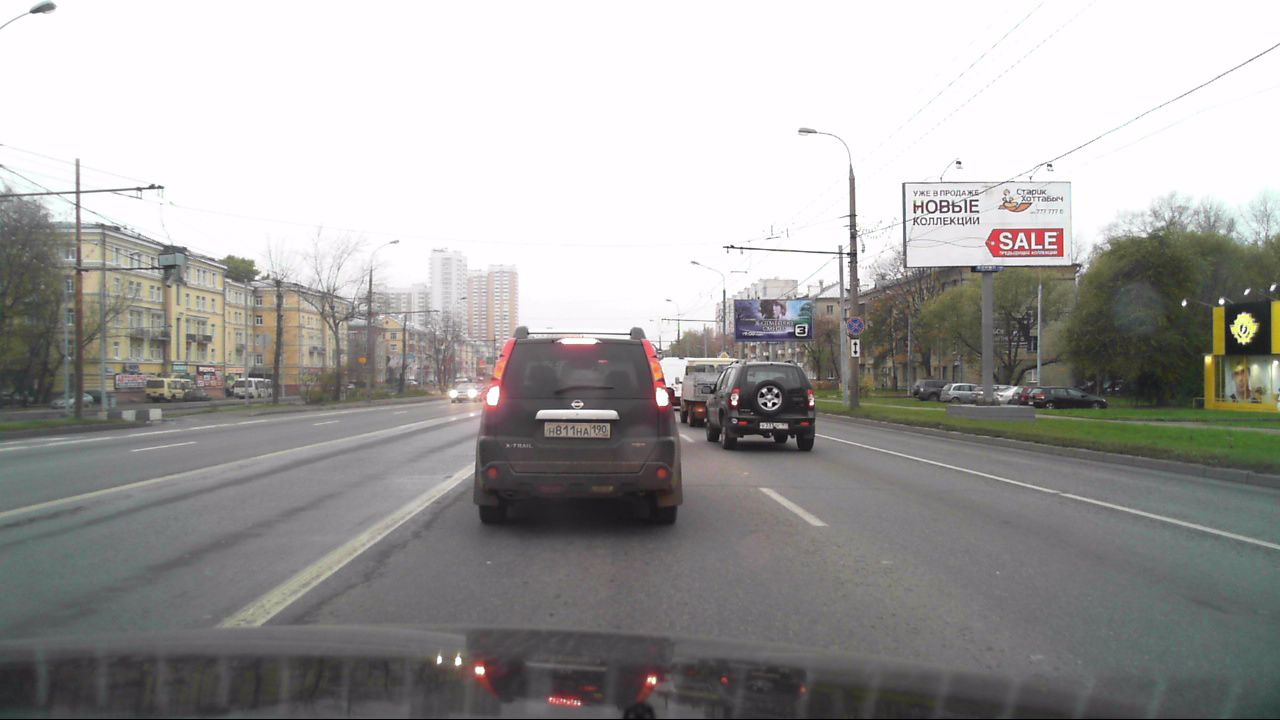No Parking: (846, 318, 862, 337)
